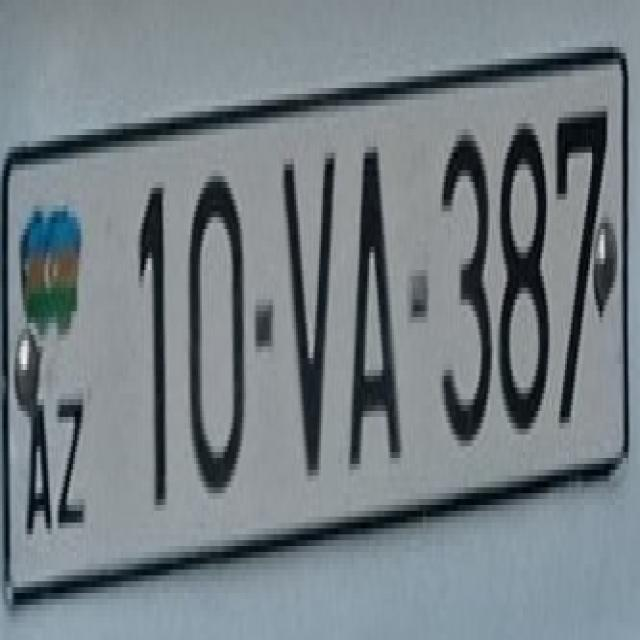0: (177, 147, 252, 505)
1: (123, 158, 175, 504)
3: (436, 118, 492, 434)
7: (544, 94, 621, 417)
8: (490, 100, 550, 428)
A: (336, 112, 406, 476)
V: (273, 118, 342, 482)
